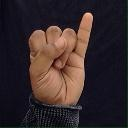hand: (27, 11, 93, 106)
